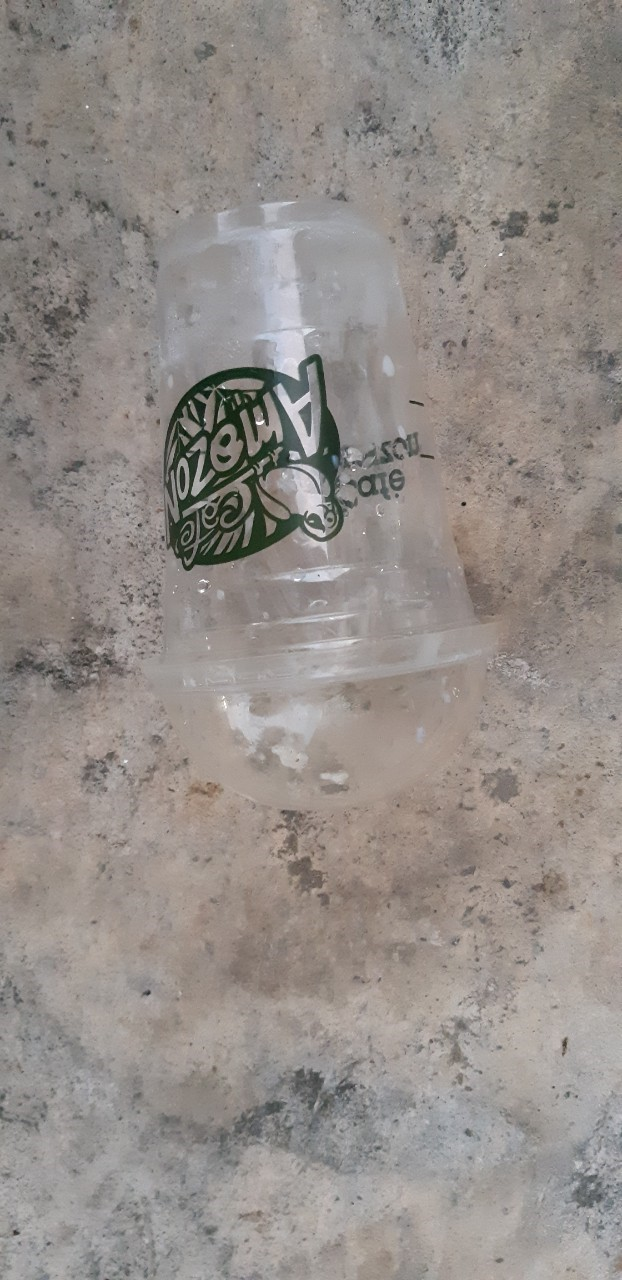PlasticCup: (147, 208, 500, 814)
